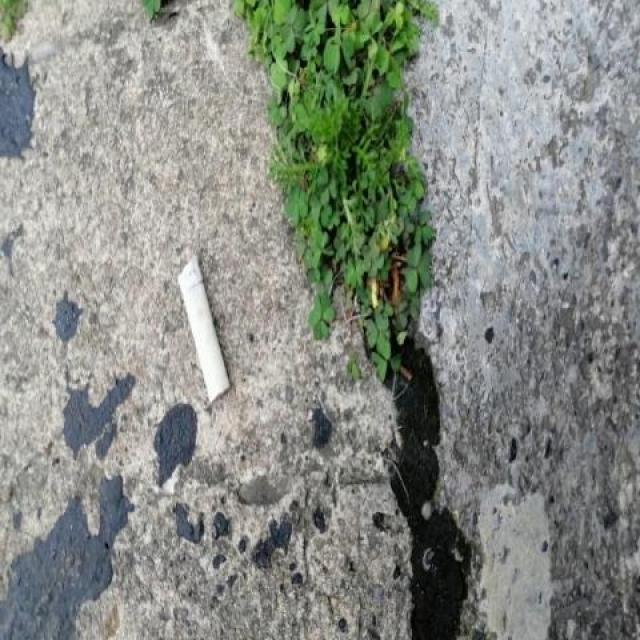non-organic waste: (172, 249, 236, 410)
